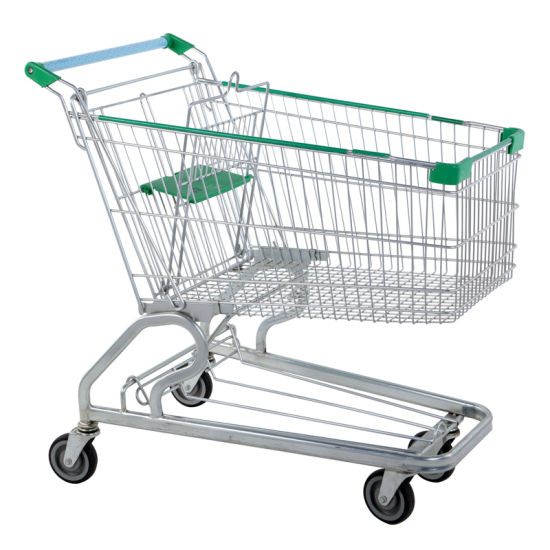with_basket: (27, 34, 523, 520)
